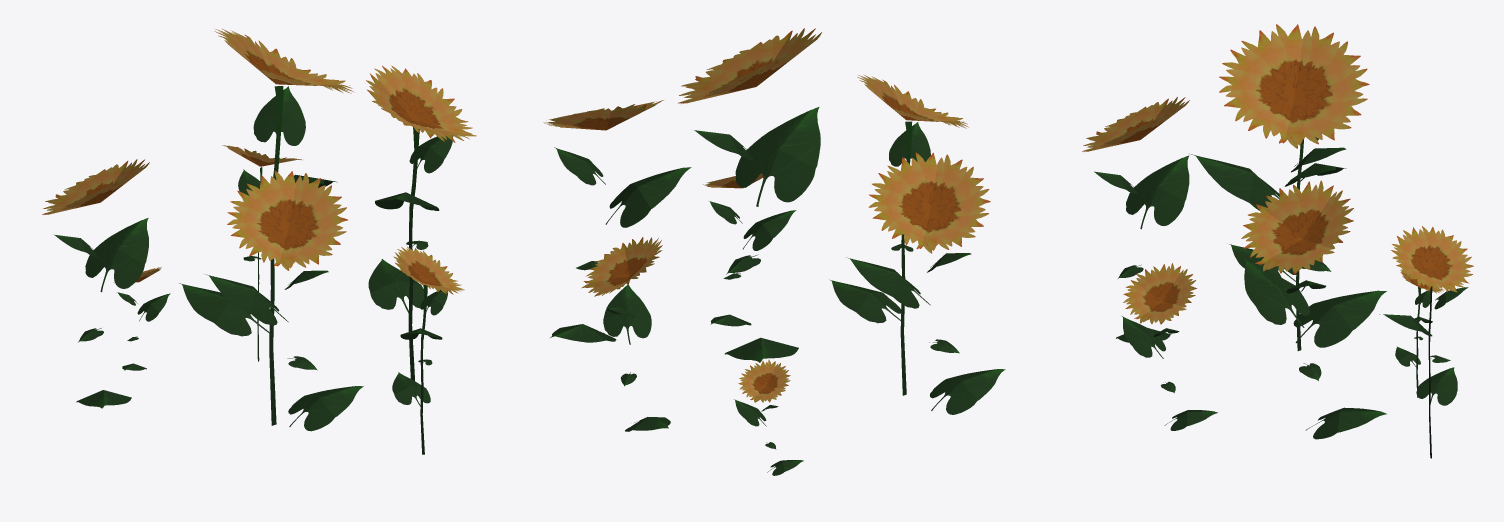
Rendered from Plant007.fbx.
3 renders of one model, left to right at view 1: azimuth 30°, elevation 25°; view 2: azimuth 150°, elevation 25°; view 3: azimuth 270°, elevation 25°, orthographic. The views are drawn at different scales.
Parts seen in each view (by area): view 1: Plant.006; view 2: Plant.006; view 3: Plant.006.
Boxes of the visible parts, x1,y1,x2,y2 form: Plant.006: [42, 29, 476, 454]; Plant.006: [543, 28, 1005, 475]; Plant.006: [1082, 24, 1473, 458].
Bounding box in the file's own units: 111 × 93.6 × 93.4.
